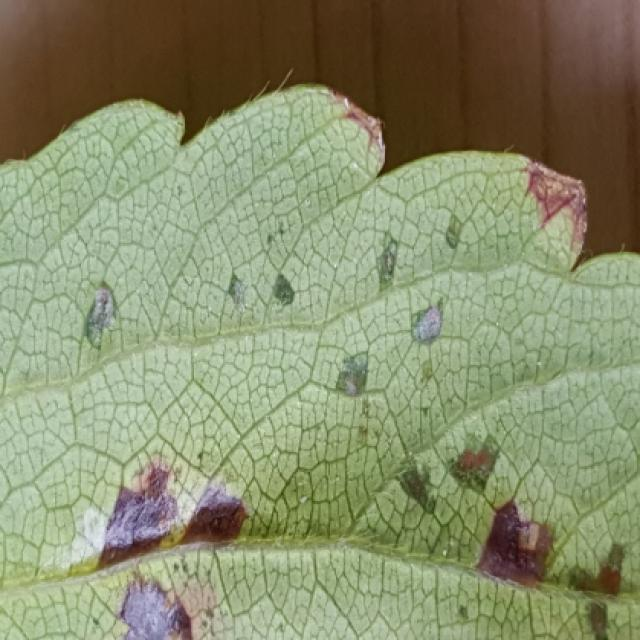Angular Leafspot: (32, 87, 638, 638)
